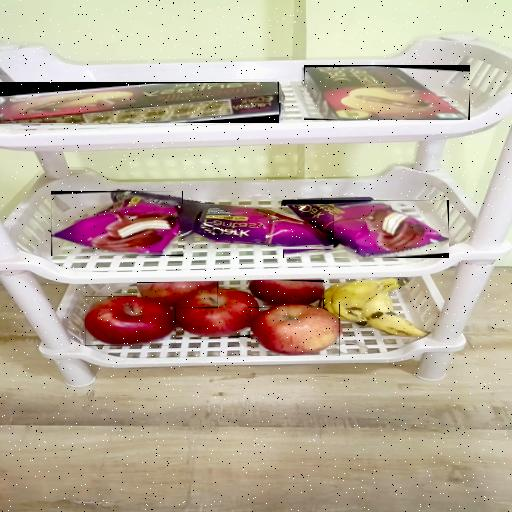Apple: (251, 304, 340, 356), (85, 296, 176, 346), (173, 289, 259, 337), (248, 280, 324, 308), (137, 282, 218, 308)
Choco Fills: (0, 82, 279, 123), (304, 65, 470, 120)
Choco Pie: (283, 200, 449, 258), (51, 191, 183, 256), (178, 204, 334, 248)
